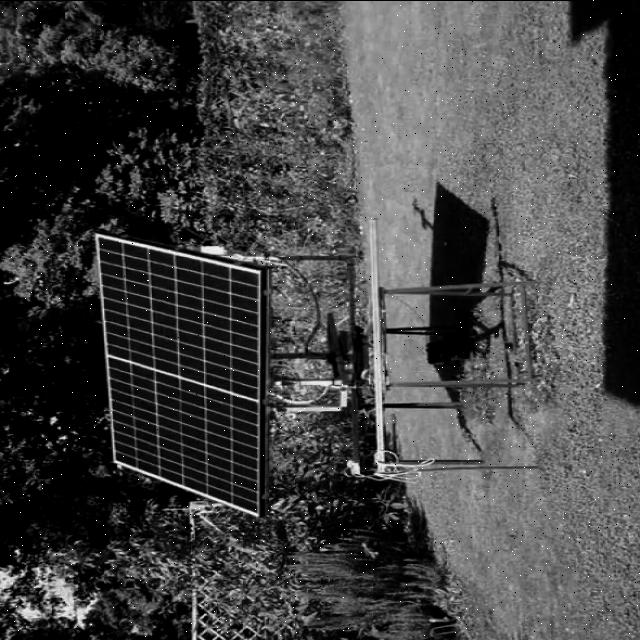Normal Solar Panel: (95, 236, 268, 516)
